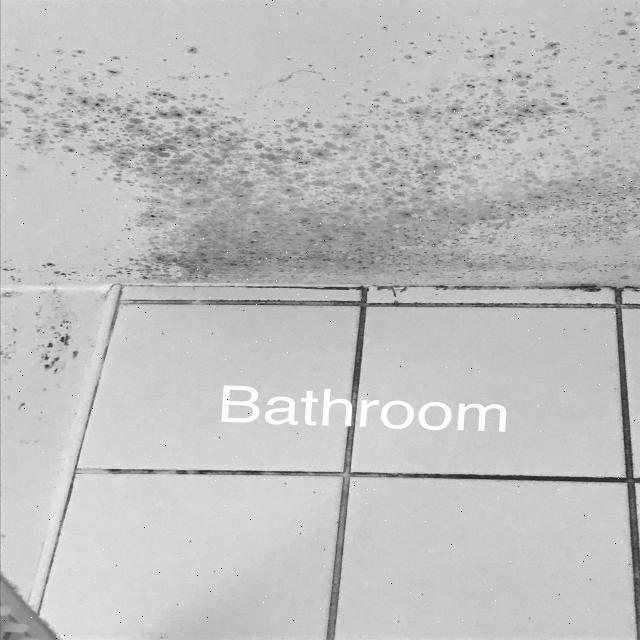stain marks: (89, 180, 640, 296), (257, 68, 640, 176), (0, 37, 267, 175), (355, 0, 640, 72), (0, 290, 85, 380), (0, 246, 89, 289)
